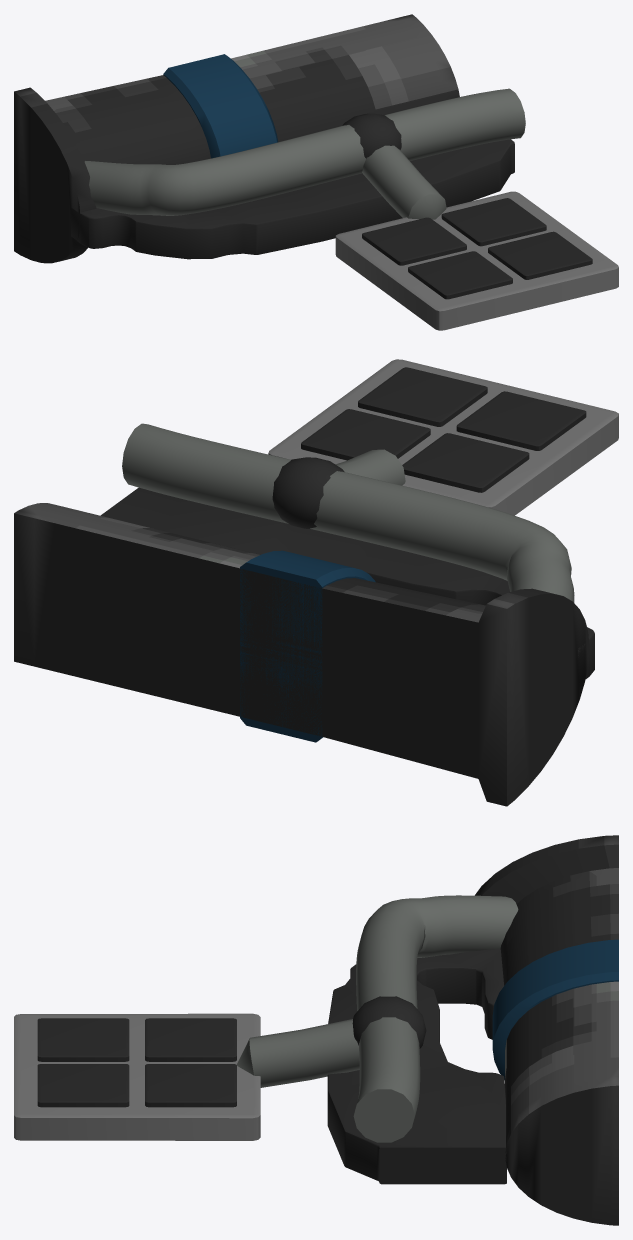
File: station_l_bl.glb
3 views of the same model, one above another, from view 1: azimuth 30°, elevation 25°; view 2: azimuth 150°, elevation 25°; view 3: azimuth 270°, elevation 25° (orthographic). The views are drawn at different scales.
Visible parts, largest first — view 1: station_l_bl_axle, station_l_bl_strut_low, station_l_bl_web0_low, station_l_bl_panel_up_frame_low, station_l_bl_blue_band, station_l_bl_stem_low, station_l_bl_panel_up_cell1_low, station_l_bl_panel_up_cell3_low, station_l_bl_panel_up_cell0_low, station_l_bl_panel_up_cell2_low, station_l_bl_knuckle_low; view 2: station_l_bl_axle, station_l_bl_strut_low, station_l_bl_web0_low, station_l_bl_panel_up_frame_low, station_l_bl_blue_band, station_l_bl_panel_up_cell3_low, station_l_bl_panel_up_cell2_low, station_l_bl_panel_up_cell0_low, station_l_bl_panel_up_cell1_low, station_l_bl_knuckle_low, station_l_bl_stem_low; view 3: station_l_bl_axle, station_l_bl_web0_low, station_l_bl_strut_low, station_l_bl_panel_up_frame_low, station_l_bl_blue_band, station_l_bl_stem_low, station_l_bl_panel_up_cell3_low, station_l_bl_panel_up_cell2_low, station_l_bl_panel_up_cell0_low, station_l_bl_panel_up_cell1_low, station_l_bl_knuckle_low.
Boxes of the visible parts, x1,y1,x2,y2 form: station_l_bl_axle: (14,14,459,263); station_l_bl_strut_low: (84,88,525,215); station_l_bl_web0_low: (71,139,514,259); station_l_bl_panel_up_frame_low: (335,191,618,330); station_l_bl_blue_band: (163,54,278,158); station_l_bl_stem_low: (362,145,446,219); station_l_bl_panel_up_cell1_low: (441,198,546,246); station_l_bl_panel_up_cell3_low: (408,251,512,299); station_l_bl_panel_up_cell0_low: (362,217,466,265); station_l_bl_panel_up_cell2_low: (488,231,592,279); station_l_bl_knuckle_low: (342,113,401,158); station_l_bl_axle: (14,503,589,806); station_l_bl_strut_low: (122,423,574,602); station_l_bl_web0_low: (100,487,594,678); station_l_bl_panel_up_frame_low: (268,359,618,515); station_l_bl_blue_band: (240,550,375,742); station_l_bl_panel_up_cell3_low: (456,391,586,450); station_l_bl_panel_up_cell2_low: (358,367,487,426); station_l_bl_panel_up_cell0_low: (402,433,529,492); station_l_bl_panel_up_cell1_low: (301,409,430,460); station_l_bl_knuckle_low: (272,457,344,528); station_l_bl_stem_low: (335,449,405,485); station_l_bl_axle: (475,835,618,1225); station_l_bl_web0_low: (327,948,506,1184); station_l_bl_strut_low: (353,895,518,1142); station_l_bl_panel_up_frame_low: (14,1013,260,1140); station_l_bl_blue_band: (492,939,618,1079); station_l_bl_stem_low: (236,1019,359,1087); station_l_bl_panel_up_cell3_low: (37,1018,129,1061); station_l_bl_panel_up_cell2_low: (37,1064,129,1107); station_l_bl_panel_up_cell0_low: (145,1018,236,1061); station_l_bl_panel_up_cell1_low: (145,1064,236,1107); station_l_bl_knuckle_low: (352,996,426,1048).
Bounding box in the file's own units: 23.98 × 9.19 × 26.99.
